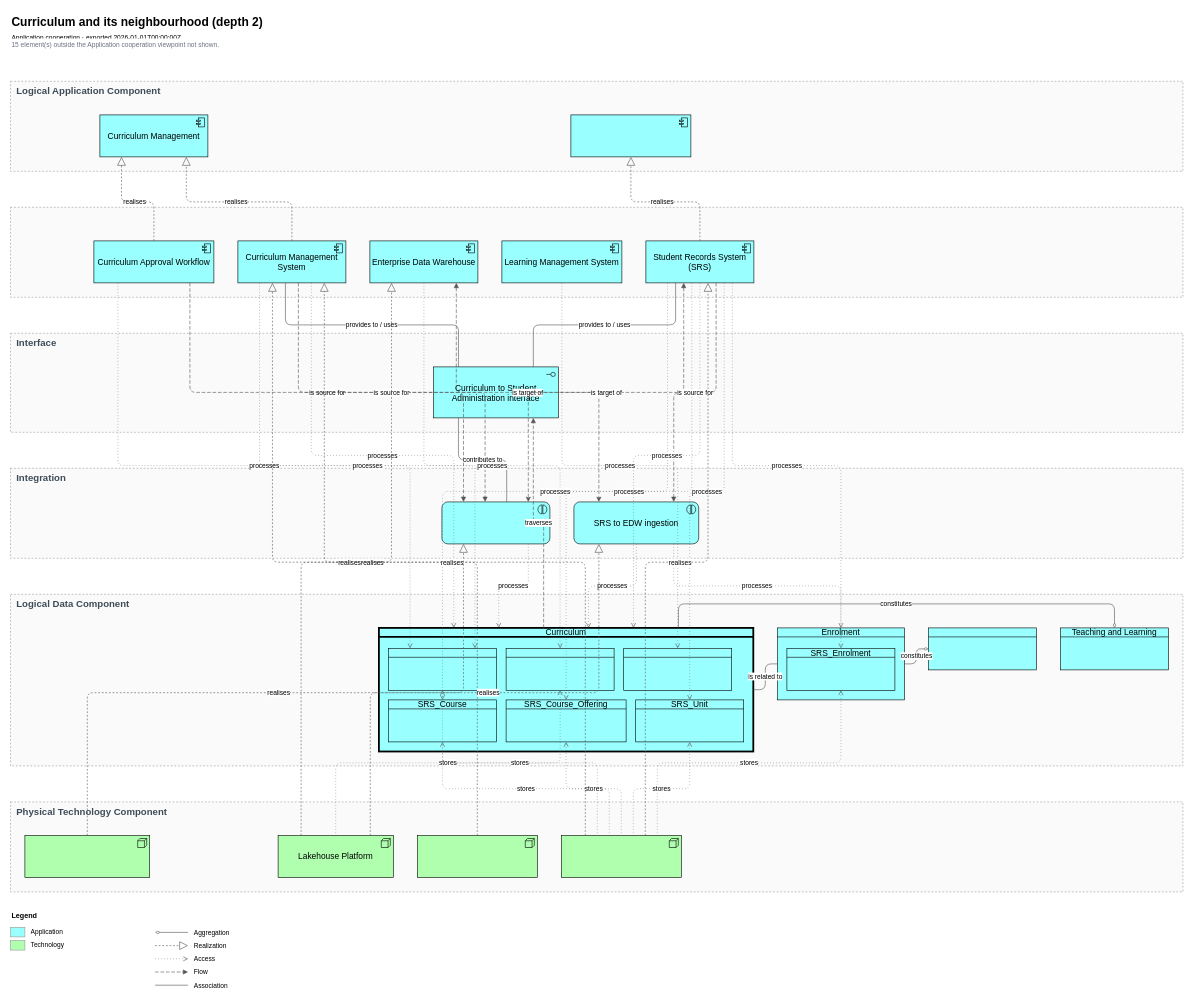
The diagram is 1193 pixels wide and 999 high, and some of its shapes have lost their labels. Each missing label, with the box of its shape:
CMS to SRS curriculum sync: (441, 501, 550, 544)
CMS_Unit_Outline: (388, 648, 496, 690)
EDW_Dim_Course: (506, 648, 614, 690)
Integration Platform: (24, 835, 150, 878)
Legacy Forms Server: (417, 835, 537, 878)
LMS_Unit_Site: (623, 648, 732, 690)
Physical Application Component: (10, 207, 1183, 297)
Relational Database Platform: (561, 835, 681, 878)
Student: (928, 627, 1036, 670)
Student Information System: (570, 114, 691, 157)
